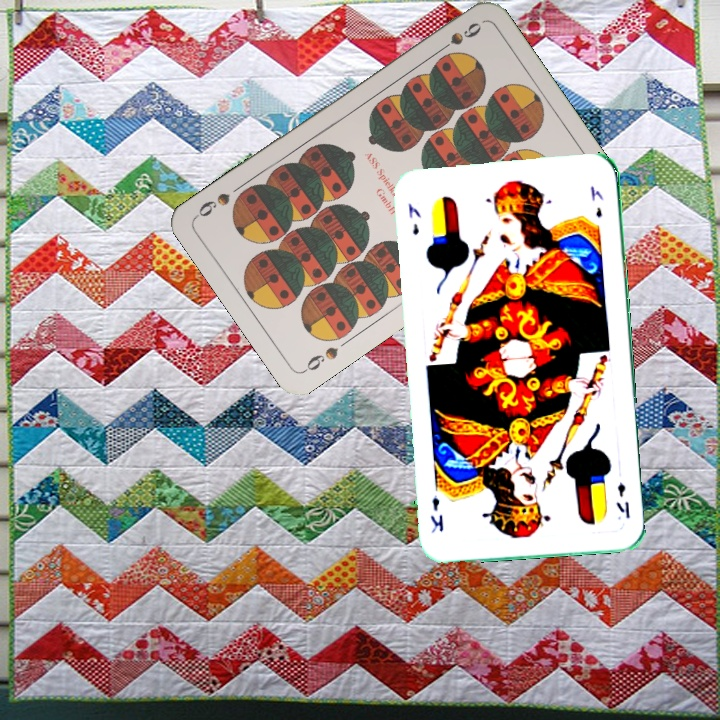EK: (612, 478, 633, 521), (404, 200, 423, 238)
S9: (432, 18, 484, 57), (299, 342, 341, 375)
